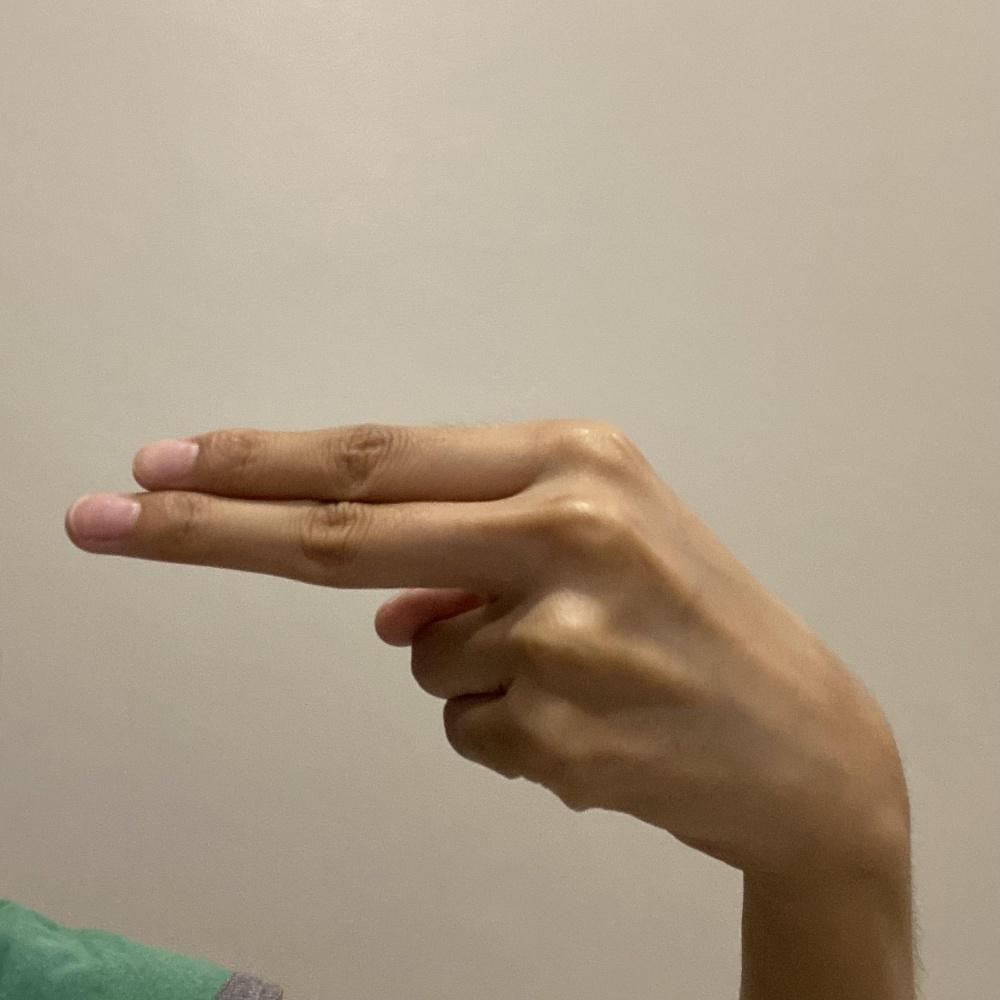h: (55, 412, 906, 874)
